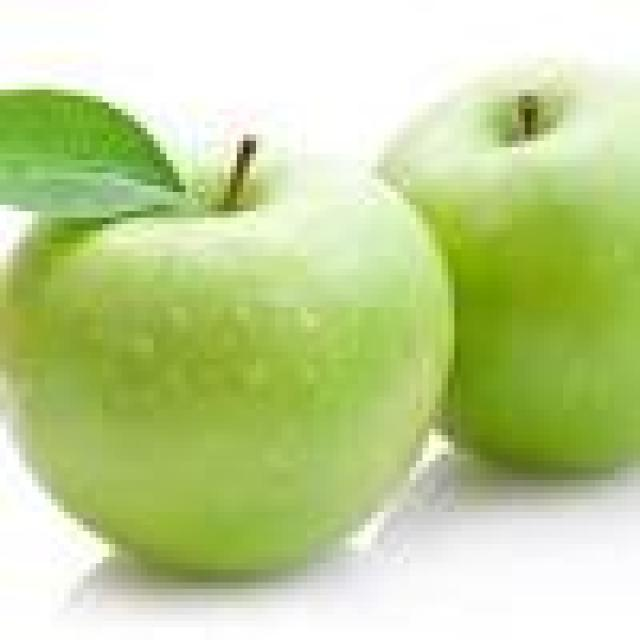apple: (379, 67, 639, 469)
